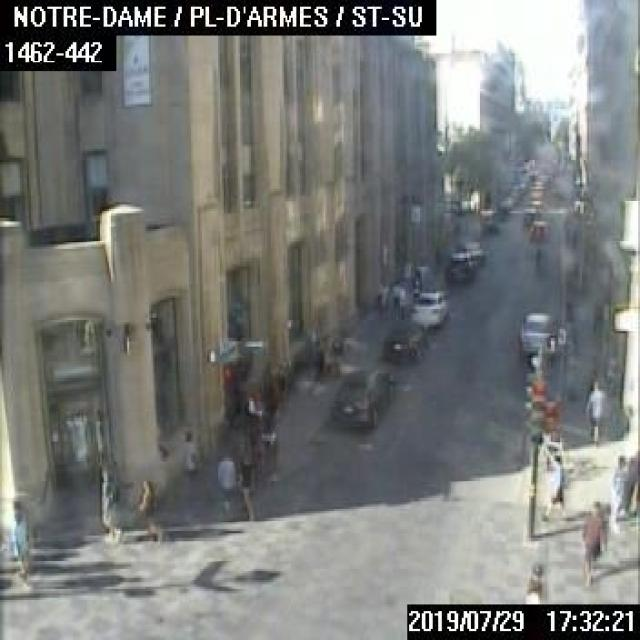pedestrian: (578, 500, 606, 584), (180, 427, 204, 498), (235, 450, 258, 520), (215, 450, 238, 520), (584, 374, 607, 444), (544, 451, 567, 516), (96, 464, 116, 538), (138, 471, 159, 538), (10, 505, 25, 580), (611, 454, 626, 518), (522, 560, 542, 604), (372, 278, 388, 318), (388, 278, 403, 318), (330, 329, 343, 373), (409, 260, 419, 286)
vehicle: (328, 368, 392, 426), (381, 319, 426, 366), (518, 312, 556, 358), (408, 288, 446, 329), (445, 248, 473, 283), (528, 218, 552, 243), (462, 240, 483, 264), (520, 206, 538, 226), (480, 209, 496, 231)
